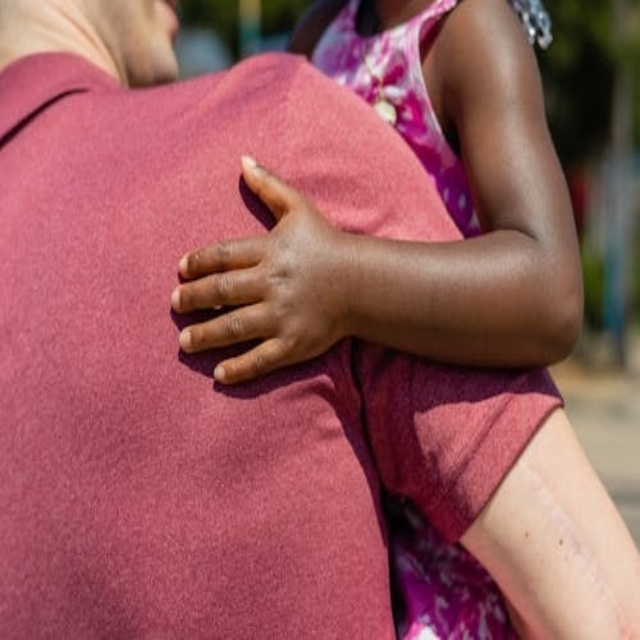Sin_guantes: (170, 149, 361, 385)
Sin_mascara: (148, 45, 181, 88), (157, 2, 181, 40)
